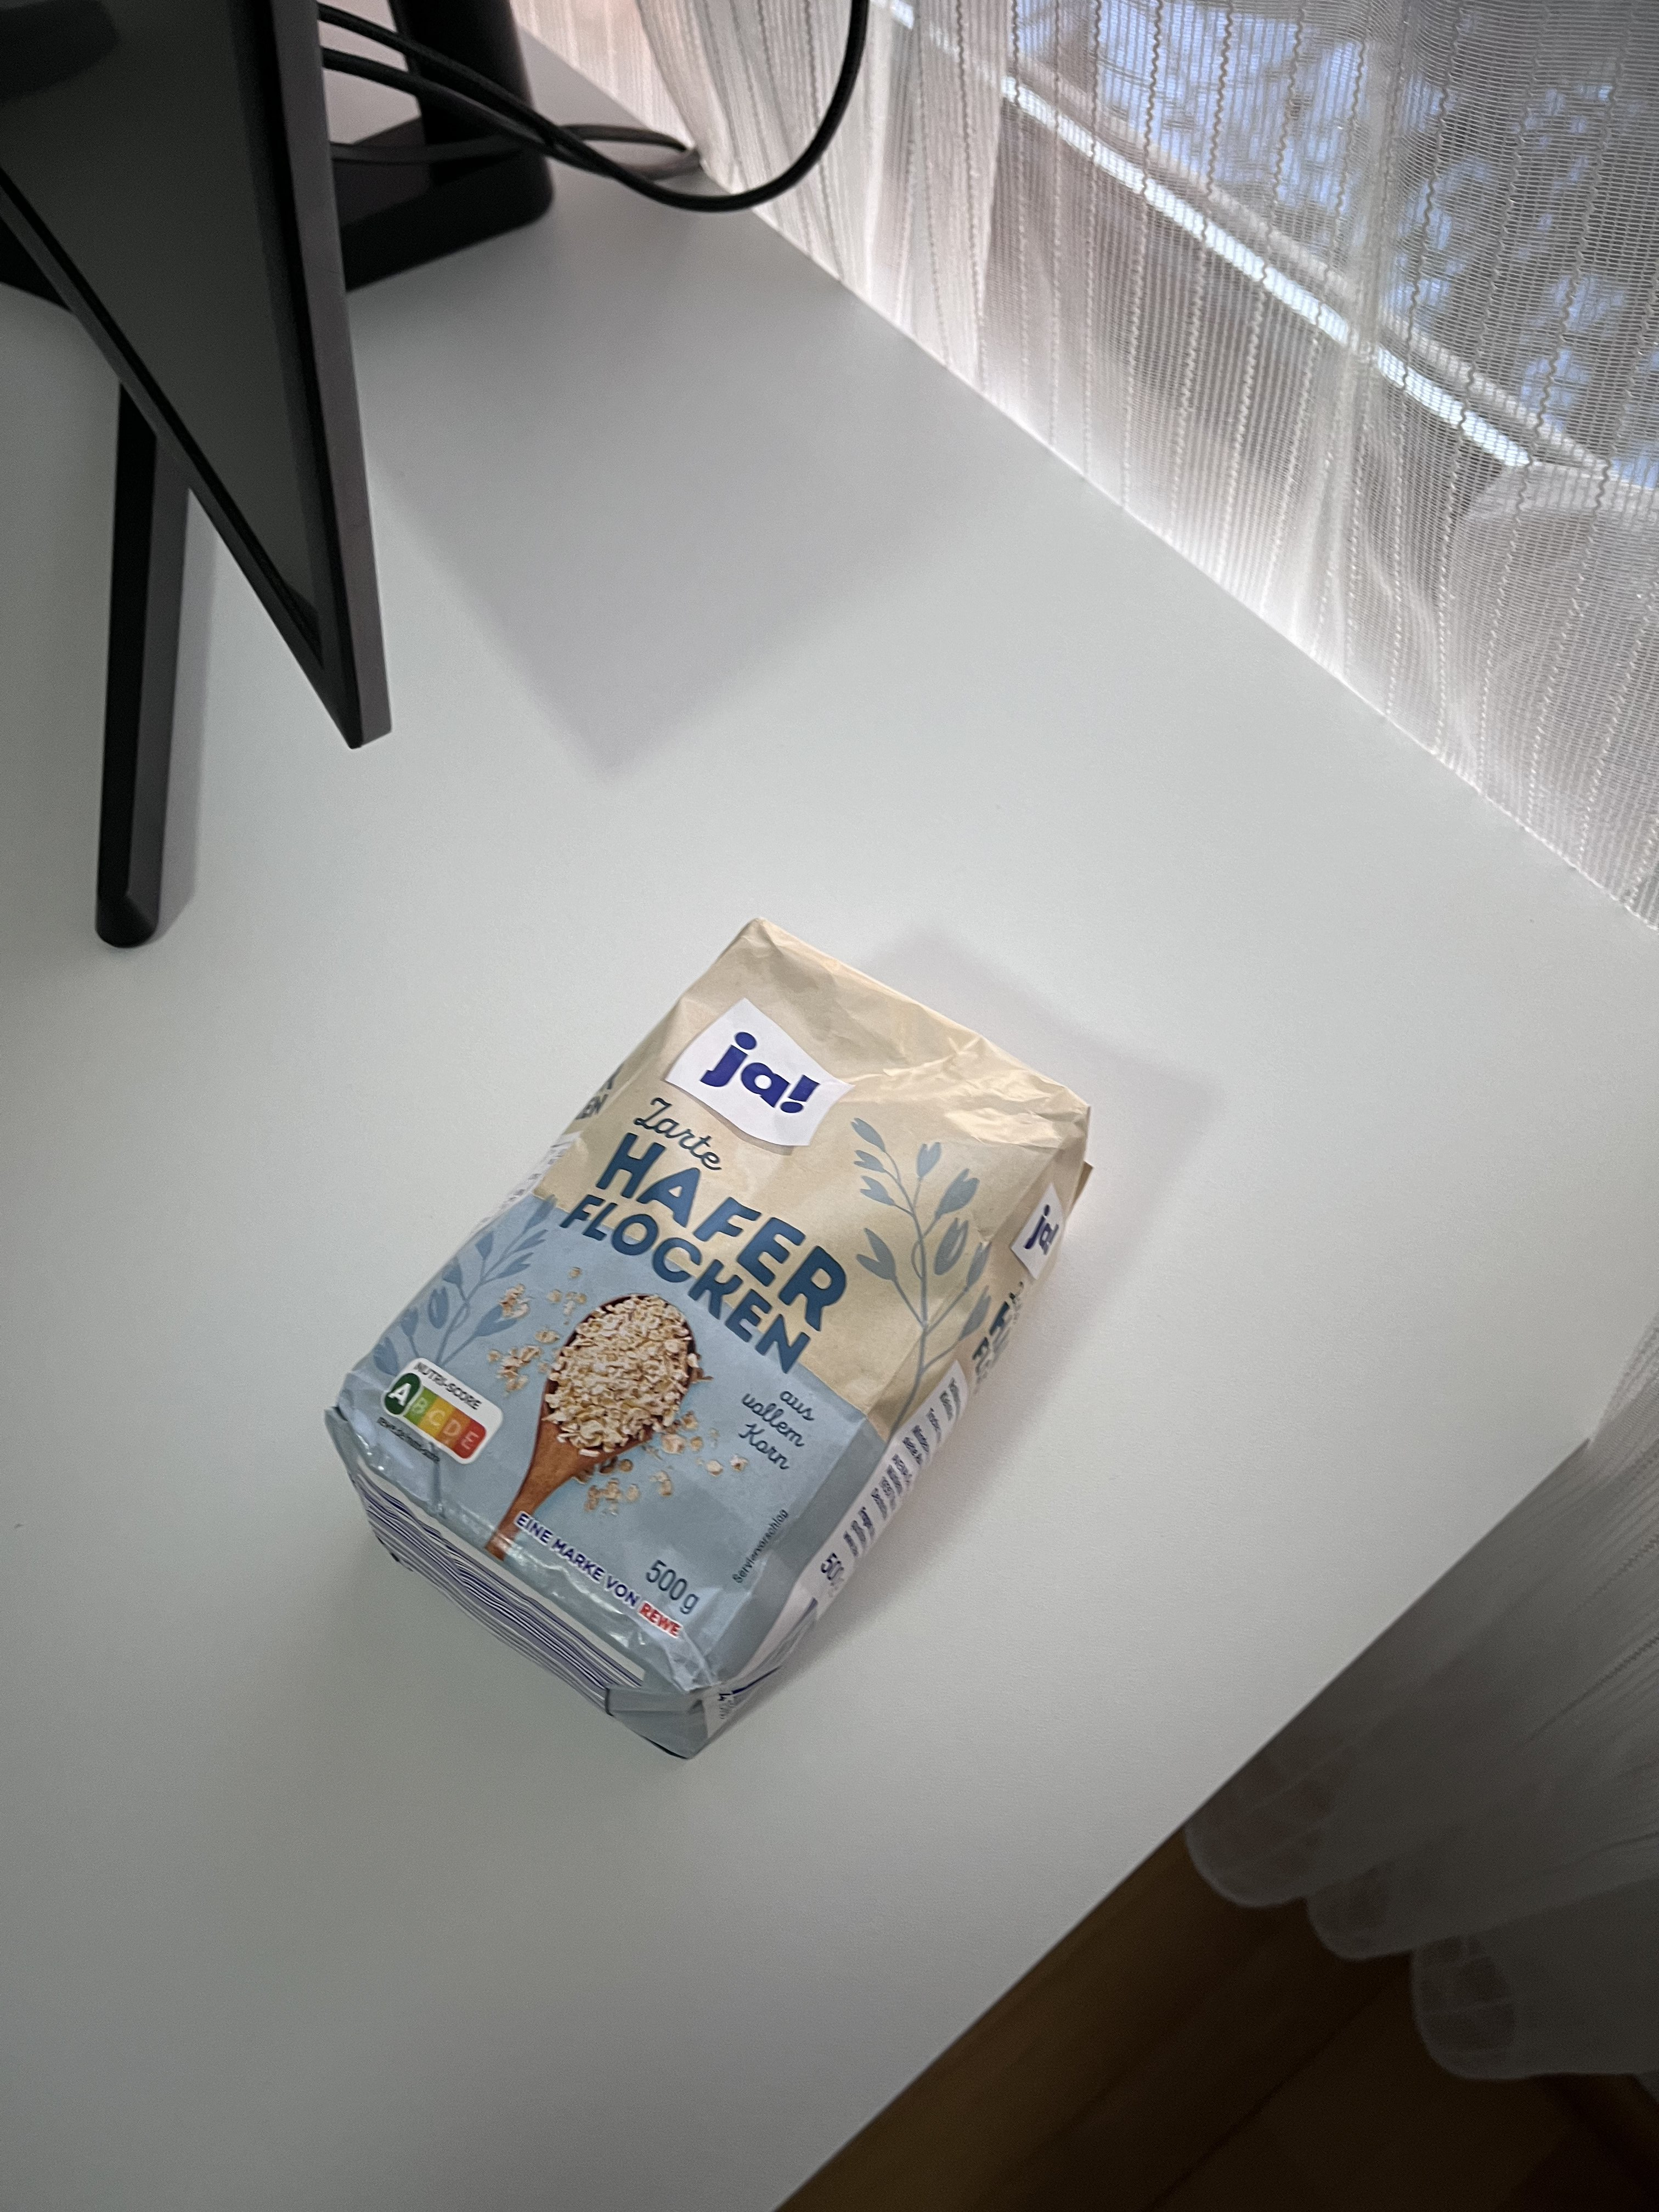haferflocken_ja: (328, 923, 1091, 1763)
